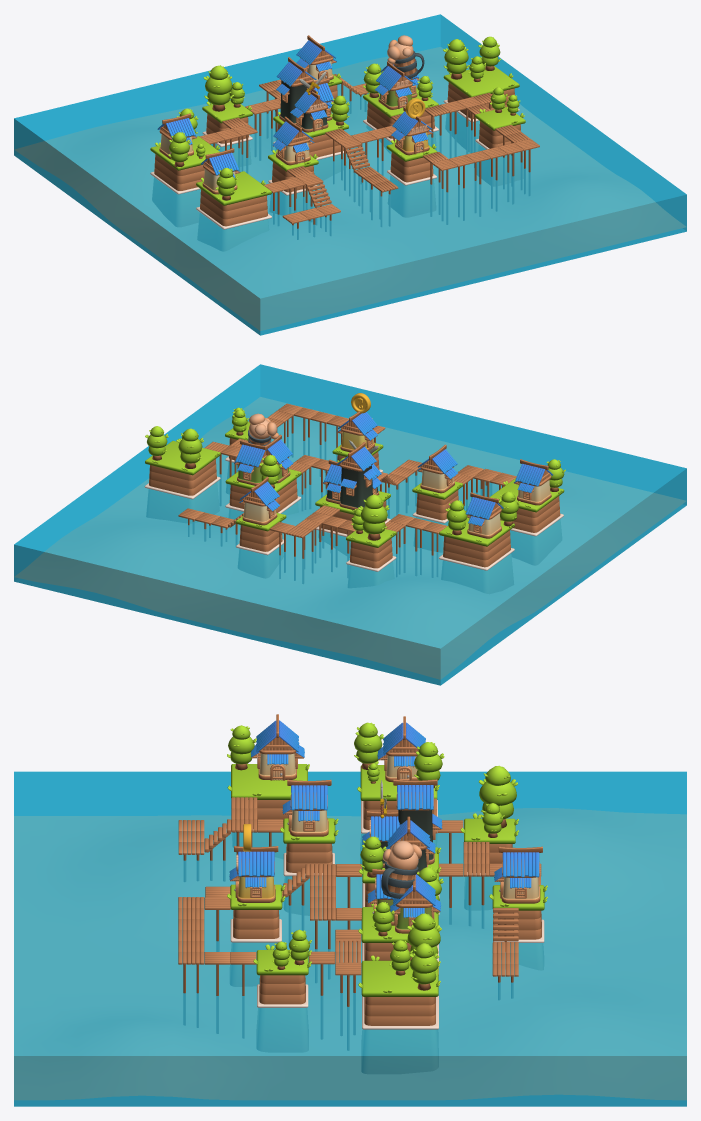
File: fishing_town.glb
3 renders of one model, top to bottom at view 1: azimuth 30°, elevation 25°; view 2: azimuth 150°, elevation 25°; view 3: azimuth 270°, elevation 25°, orthographic. The views are drawn at different scales.
Visible parts, largest first — view 1: Plane_27, Plane.001_28, island2.004_125, island2.003_118, Cylinder.005_169, island2_97, island1.003_153, Cube.010_98, island2.001_104, island2.002_111, Cylinder_23, Cylinder.008_172 (+28 smaller); view 2: Plane_27, Plane.001_28, island2.003_118, island2.001_104, island2.004_125, island1.001_132, island1.002_139, Cylinder.005_169, island1_90, Cylinder.010_174, Cube.010_98, guild.001_49 (+27 smaller); view 3: Plane_27, Plane.001_28, island2.001_104, island1.003_153, island2_97, Cylinder.005_169, Cube.010_98, Cylinder.008_172, island1_90, Cylinder_23, Cube.076_119, island1.001_132 (+39 smaller).
Part boxes in pixels (<box>): Plane_27: <box>14,14,686,335</box>; Plane.001_28: <box>15,47,685,330</box>; island2.004_125: <box>197,189,268,251</box>; island2.003_118: <box>152,154,204,226</box>; Cylinder.005_169: <box>432,139,539,224</box>; island2_97: <box>388,152,435,217</box>; island1.003_153: <box>477,121,523,186</box>; Cube.010_98: <box>443,65,519,97</box>; island2.001_104: <box>445,82,514,152</box>; island2.002_111: <box>277,123,346,180</box>; Cylinder_23: <box>387,35,424,78</box>; Cylinder.008_172: <box>334,125,396,195</box>; Plane_27: <box>14,364,686,685</box>; Plane.001_28: <box>15,397,685,679</box>; island2.003_118: <box>441,530,513,593</box>; island2.001_104: <box>146,459,219,523</box>; island2.004_125: <box>500,496,561,565</box>; island1.001_132: <box>238,522,283,578</box>; island1.002_139: <box>348,538,394,587</box>; Cylinder.005_169: <box>277,403,385,476</box>; island1_90: <box>414,490,458,552</box>; Cylinder.010_174: <box>389,514,447,577</box>; Cube.010_98: <box>145,440,220,475</box>; guild.001_49: <box>339,464,372,510</box>; Plane_27: <box>14,771,686,1106</box>; Plane.001_28: <box>14,808,686,1099</box>; island2.001_104: <box>361,997,438,1073</box>; island1.003_153: <box>256,975,308,1052</box>; island2_97: <box>230,910,279,986</box>; Cylinder.005_169: <box>178,897,204,1027</box>; Cube.010_98: <box>361,960,438,996</box>; Cylinder.008_172: <box>310,864,335,982</box>; island1_90: <box>284,843,332,915</box>; Cylinder_23: <box>381,840,421,898</box>; Cube.076_119: <box>231,764,307,799</box>; island1.001_132: <box>498,910,543,970</box>.
Size of the model in its own units: 25.97 by 8.06 by 25.97.
Materials: 3 (2 with a texture image).
